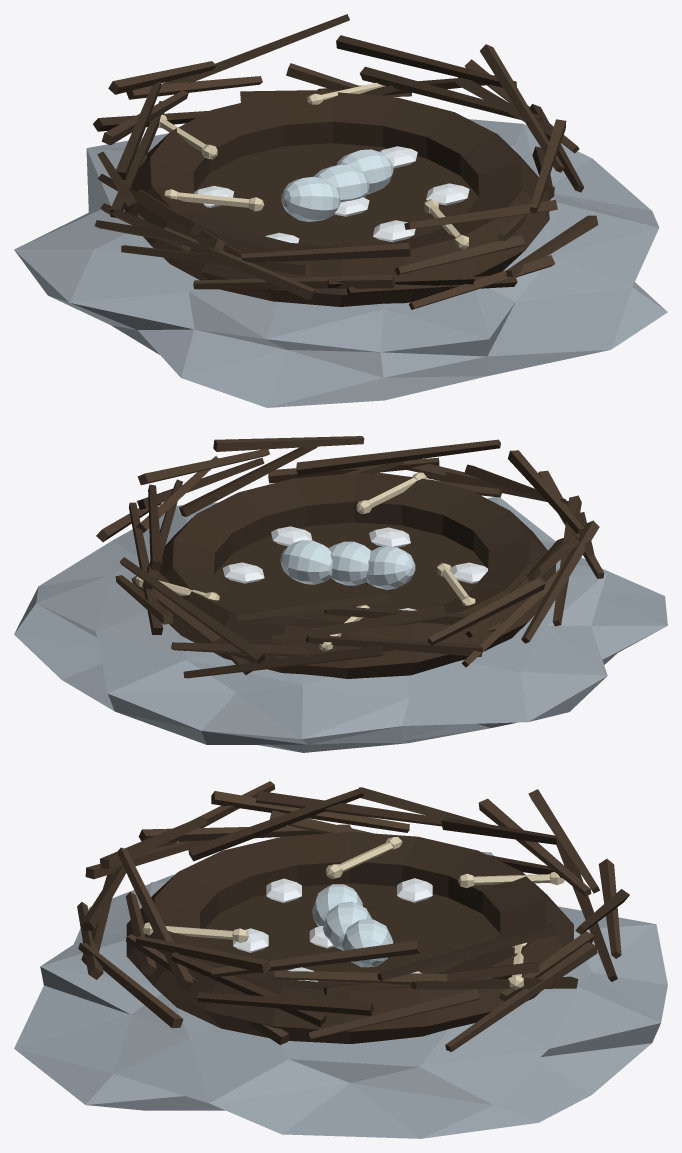
File: dragonspine-hawk-nest.glb
3 views of the same model, one above another, from view 1: azimuth 30°, elevation 25°; view 2: azimuth 150°, elevation 25°; view 3: azimuth 270°, elevation 25° (orthographic). The views are drawn at different scales.
Visible parts, largest first — view 1: Body_Stone, Body_WoodDark, Body_Wood, Body_Egg, Body_Second, Body_Paper; view 2: Body_Stone, Body_WoodDark, Body_Wood, Body_Egg, Body_Second, Body_Paper; view 3: Body_Stone, Body_WoodDark, Body_Wood, Body_Egg, Body_Paper, Body_Second.
Part boxes in pixels (<box>): Body_Stone: <box>14,119,667,407</box>; Body_WoodDark: <box>93,14,584,306</box>; Body_Wood: <box>94,44,598,309</box>; Body_Egg: <box>281,149,393,221</box>; Body_Second: <box>194,146,469,243</box>; Body_Paper: <box>158,82,468,249</box>; Body_Stone: <box>14,497,667,752</box>; Body_WoodDark: <box>120,446,579,678</box>; Body_Wood: <box>96,436,604,667</box>; Body_Egg: <box>280,540,415,589</box>; Body_Second: <box>223,526,487,610</box>; Body_Paper: <box>135,472,475,651</box>; Body_Stone: <box>14,852,667,1138</box>; Body_WoodDark: <box>80,788,629,1043</box>; Body_Wood: <box>77,781,621,1051</box>; Body_Egg: <box>312,884,393,967</box>; Body_Paper: <box>142,837,564,989</box>; Body_Second: <box>233,878,432,981</box>.
Bounding box in the file's own units: 2.5 × 0.8 × 2.5.
